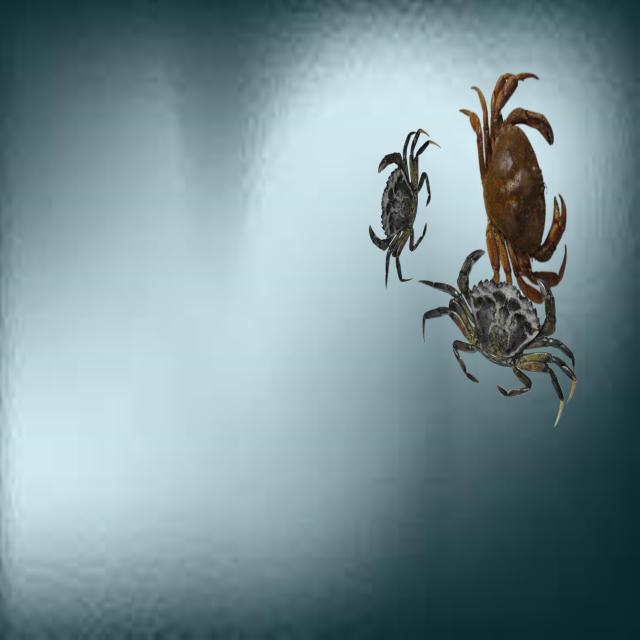European_Green_Crab: (420, 245, 589, 438), (365, 121, 439, 289)
